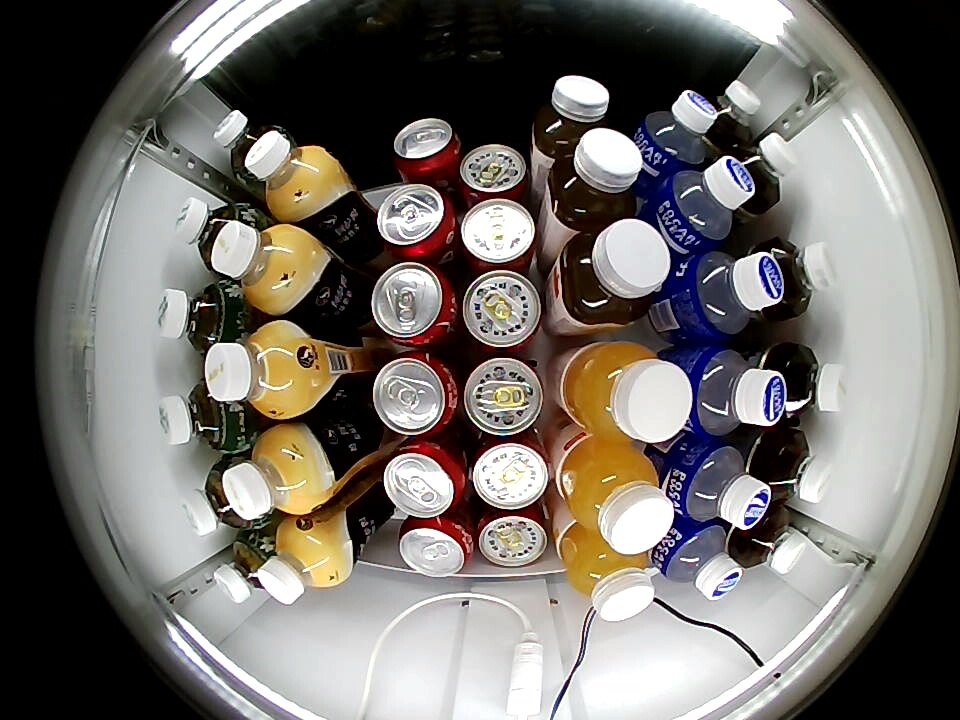asamu: (220, 429, 321, 522), (204, 323, 304, 415), (209, 217, 305, 309), (245, 130, 334, 213), (258, 523, 344, 605)
baokuangli: (678, 249, 786, 341), (685, 345, 788, 437), (670, 439, 772, 531), (657, 156, 756, 250), (655, 518, 743, 601), (636, 90, 717, 173)
chapai: (552, 218, 672, 331), (547, 128, 643, 230), (532, 75, 611, 161)
kele: (370, 261, 457, 347), (372, 352, 458, 437), (383, 440, 465, 519), (375, 183, 456, 260), (398, 517, 473, 577), (393, 118, 461, 176)
moliqingcha: (156, 282, 244, 356), (158, 379, 246, 453), (173, 197, 253, 271), (182, 461, 258, 535), (213, 109, 285, 181), (213, 530, 277, 604)
wangzainiunai: (460, 269, 543, 351), (461, 356, 545, 437), (469, 432, 550, 510), (458, 198, 539, 275), (475, 502, 550, 568), (458, 143, 531, 206)
weic: (555, 437, 673, 555), (557, 342, 694, 443), (557, 521, 655, 621)
wulongcha: (774, 343, 849, 423), (724, 133, 800, 210), (770, 233, 839, 317), (762, 428, 835, 504), (734, 505, 808, 575), (704, 81, 761, 147)
